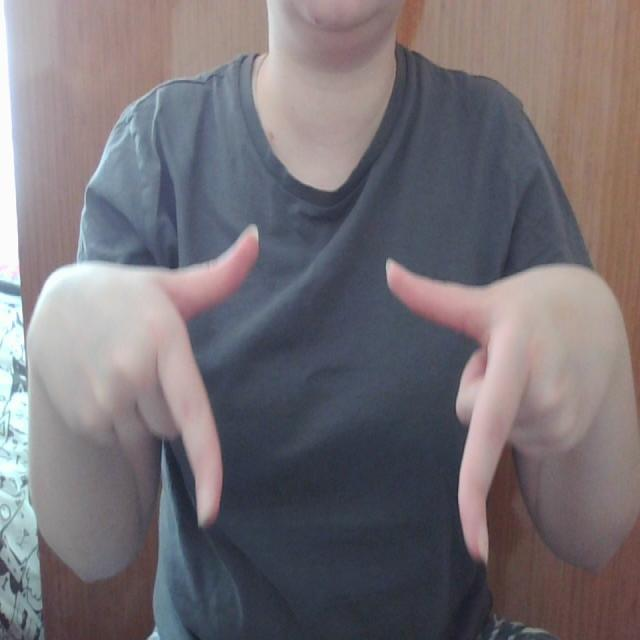Nerede: (151, 223, 544, 569)
